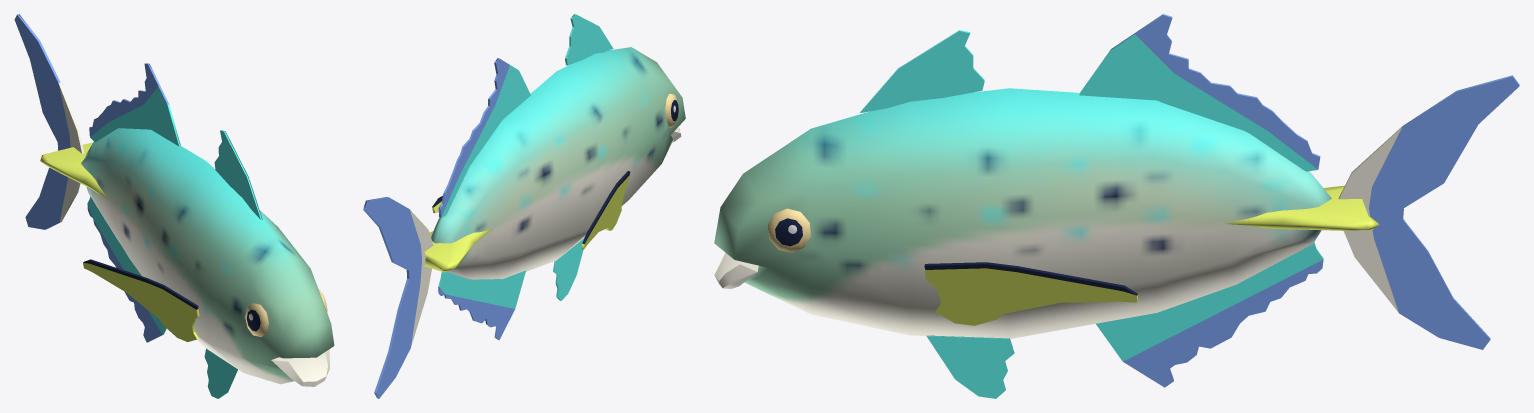
The picture shows the model from 3 angles, left to right: view 1: azimuth 30°, elevation 25°; view 2: azimuth 150°, elevation 25°; view 3: azimuth 270°, elevation 25°; orthographic projection. The views are drawn at different scales.
Visible parts, largest first — view 1: Fish_BluefinTrevally; view 2: Fish_BluefinTrevally; view 3: Fish_BluefinTrevally.
Part boxes in pixels (x1,y1,x2,y2): Fish_BluefinTrevally: (14,14,334,398); Fish_BluefinTrevally: (363,14,685,398); Fish_BluefinTrevally: (714,14,1519,398).
Bounding box in the file's own units: 36.8 × 66.51 × 127.
